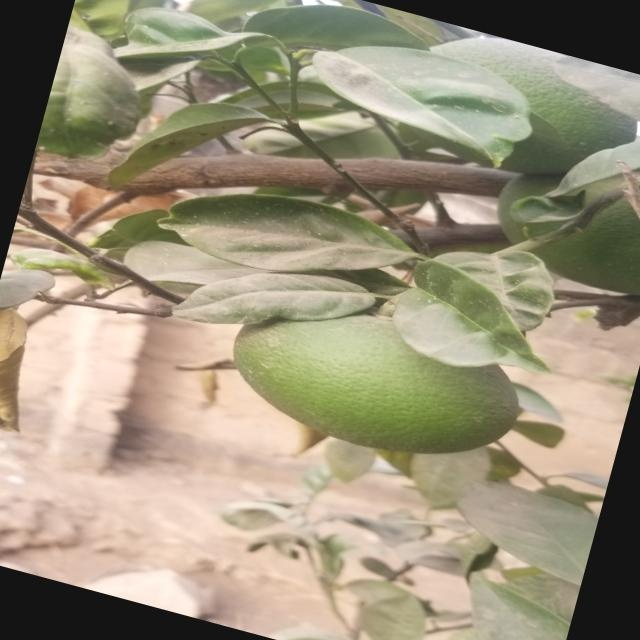agrume: (207, 279, 524, 478)
